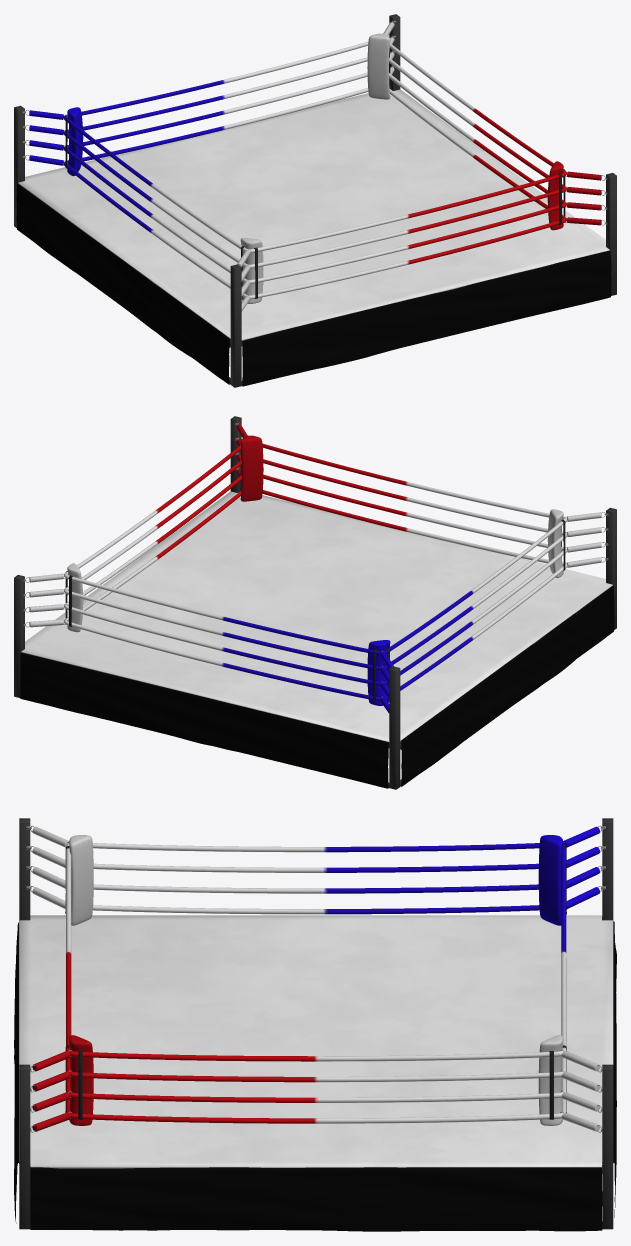
Rendered from ring.glb.
3 renders of one model, top to bottom at view 1: azimuth 30°, elevation 25°; view 2: azimuth 150°, elevation 25°; view 3: azimuth 270°, elevation 25°, orthographic. The views are drawn at different scales.
Parts seen in each view (by area): view 1: Boxing Ring; view 2: Boxing Ring; view 3: Boxing Ring.
Boxes of the visible parts, bbox=[...] form: Boxing Ring: bbox=[14, 14, 616, 387]; Boxing Ring: bbox=[14, 416, 616, 789]; Boxing Ring: bbox=[14, 818, 616, 1231].
Size of the model in its own units: 7.93 by 2.4 by 7.92.
1 material, 1 textured.
